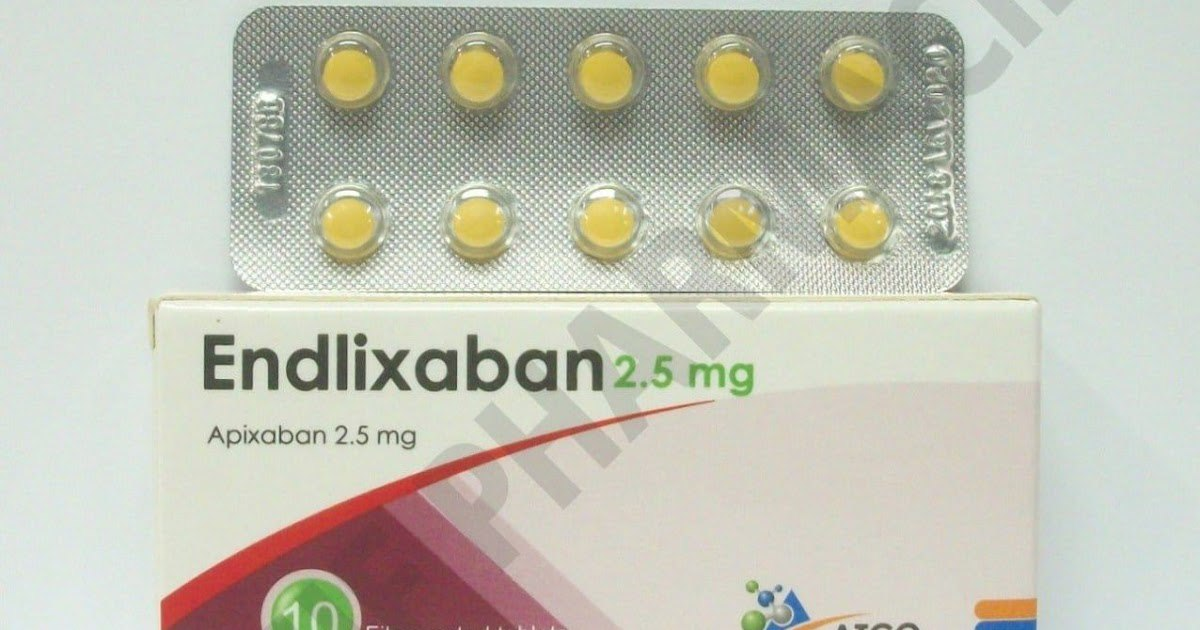Medicine: (135, 282, 1047, 630)
